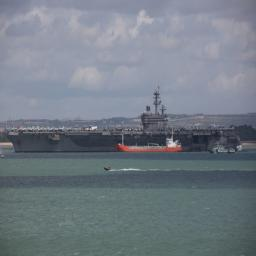Portanaves: (5, 85, 247, 156)
